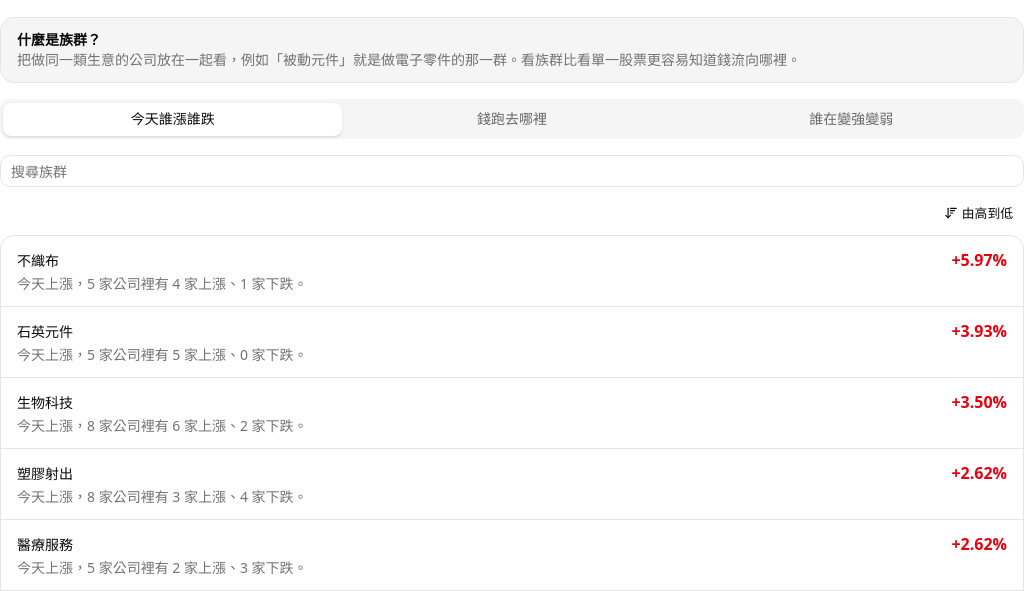
Test: SectorsScreen › shows quadrant counts, glossary chips and today's transitions
Click the tab "誰在變強變弱".
click(851, 119)  # box [682,102,1021,136]
(page scrolled)
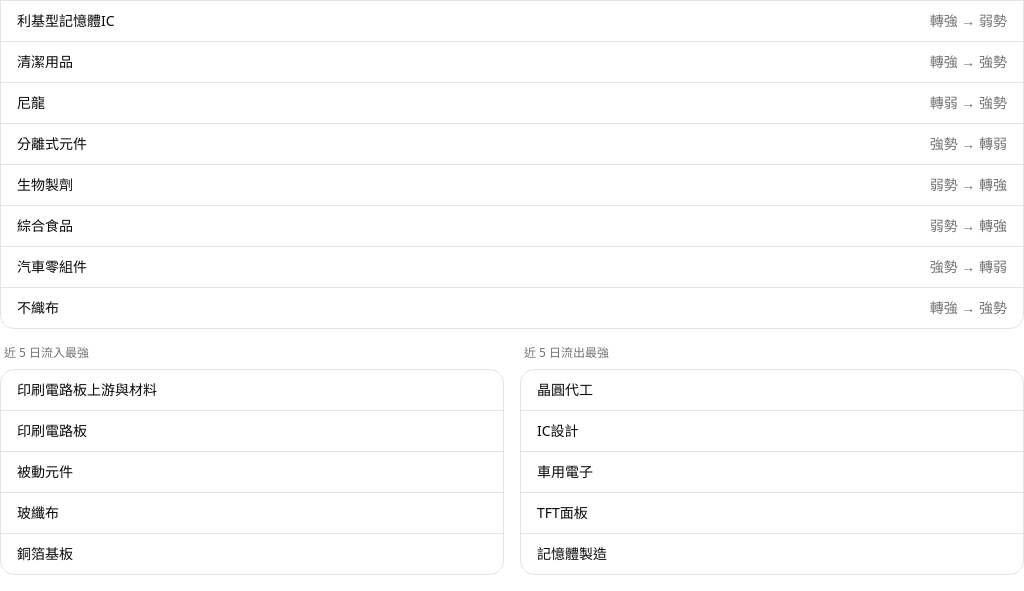
Expected: the heading "近 5 日流入最強" is shown, [4,344,89,361]
